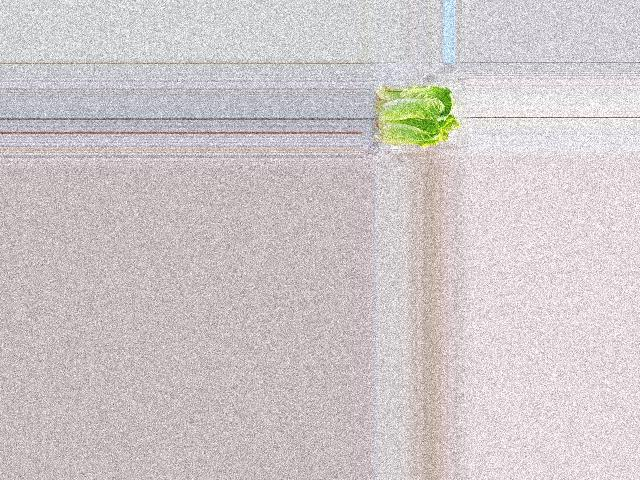lettuce: (379, 85, 459, 147)
